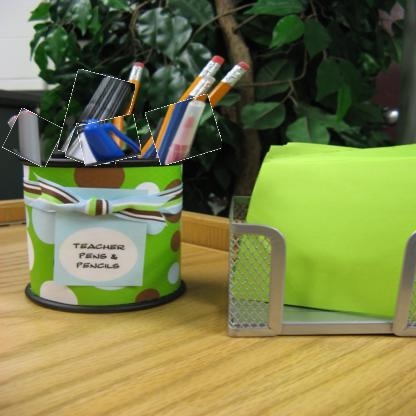Pen: (62, 72, 131, 162), (149, 98, 220, 162), (79, 117, 141, 165), (6, 112, 59, 164), (67, 124, 97, 162)
